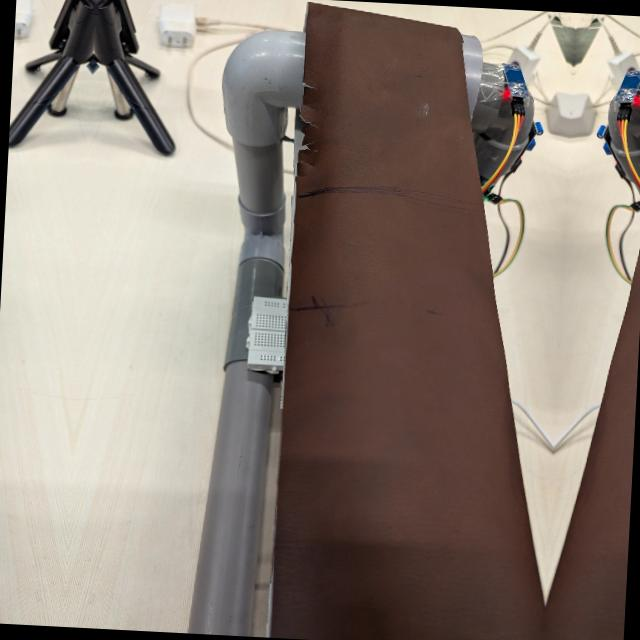edge_damage: (274, 72, 344, 187)
